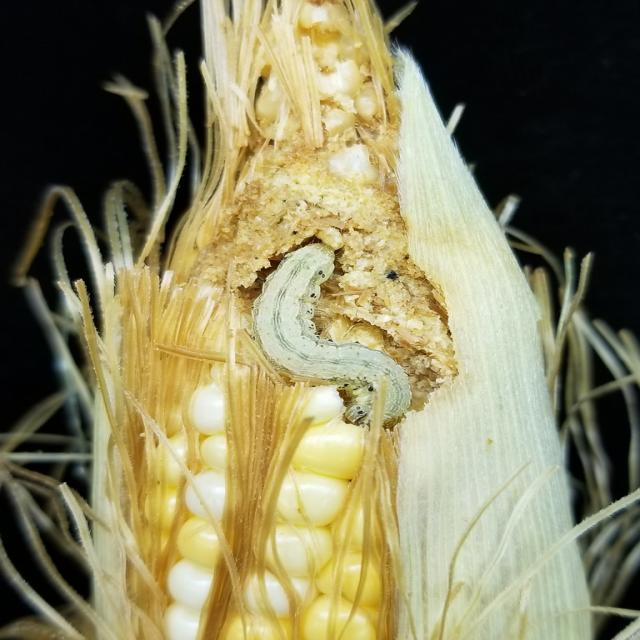Corn-earworm: (258, 222, 420, 429)
